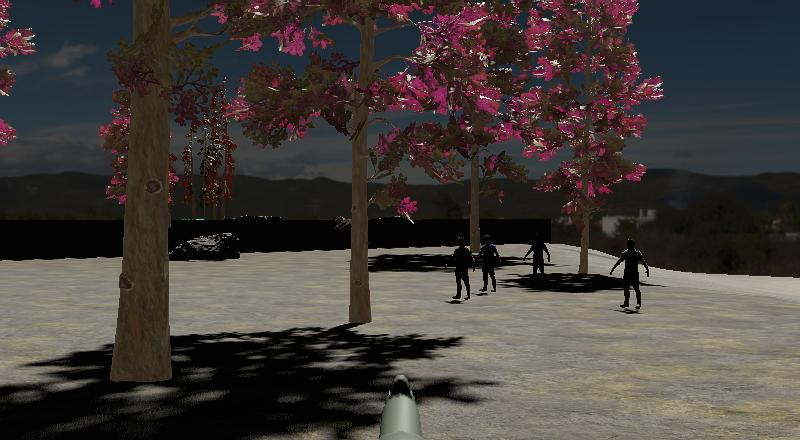Human: (445, 234, 475, 302), (476, 232, 502, 293)
